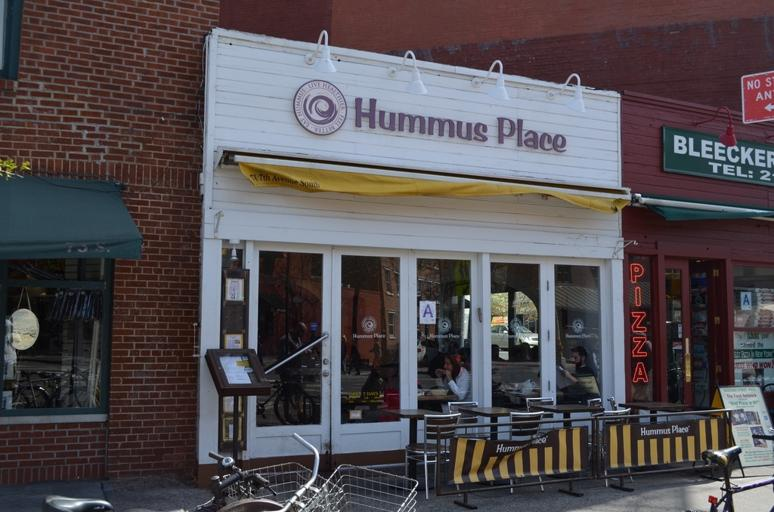non-vehicle: (39, 449, 345, 511), (256, 430, 417, 511), (678, 432, 773, 511)
